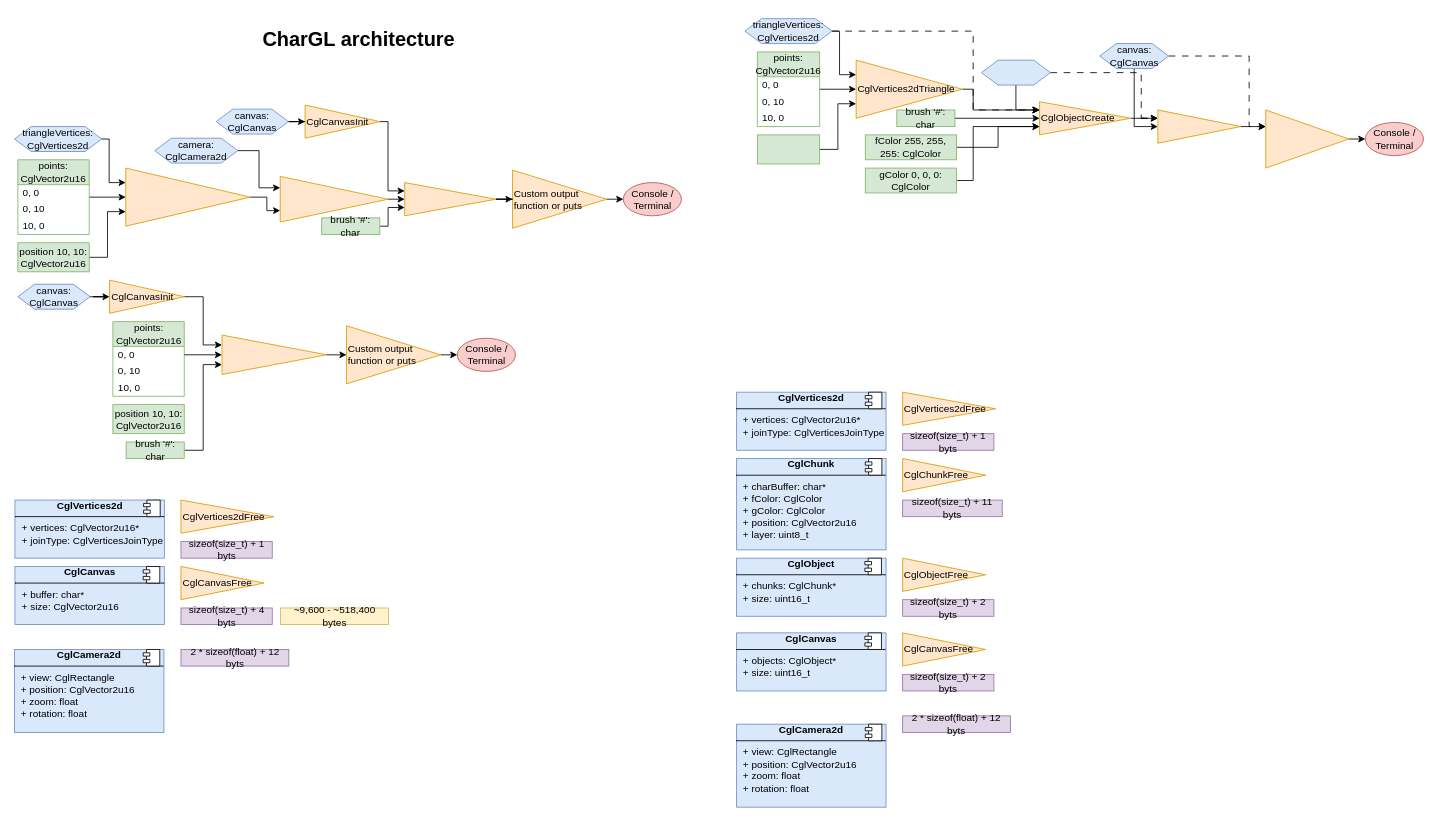
The diagram is 1438 pixels wide and 822 high, and some of its shapes have lost their labels. The shapes that lost their labels are listed below. From the top down, each one's centre as x and y in pixels, then its label:
At point 1015,72: "triangle: CglObject".
At point 1199,126: "CglCanvasDraw".
At point 1307,138: "Custom output function".
At point 788,149: "position 0: CglVector2u16".
At point 187,196: "CglVertices2dInitTriangle".
At point 333,199: "CglCamera2dNormalize".
At point 450,199: "CglCanvasFillVertices".
At point 274,354: "CglCanvasFillTriangle".
